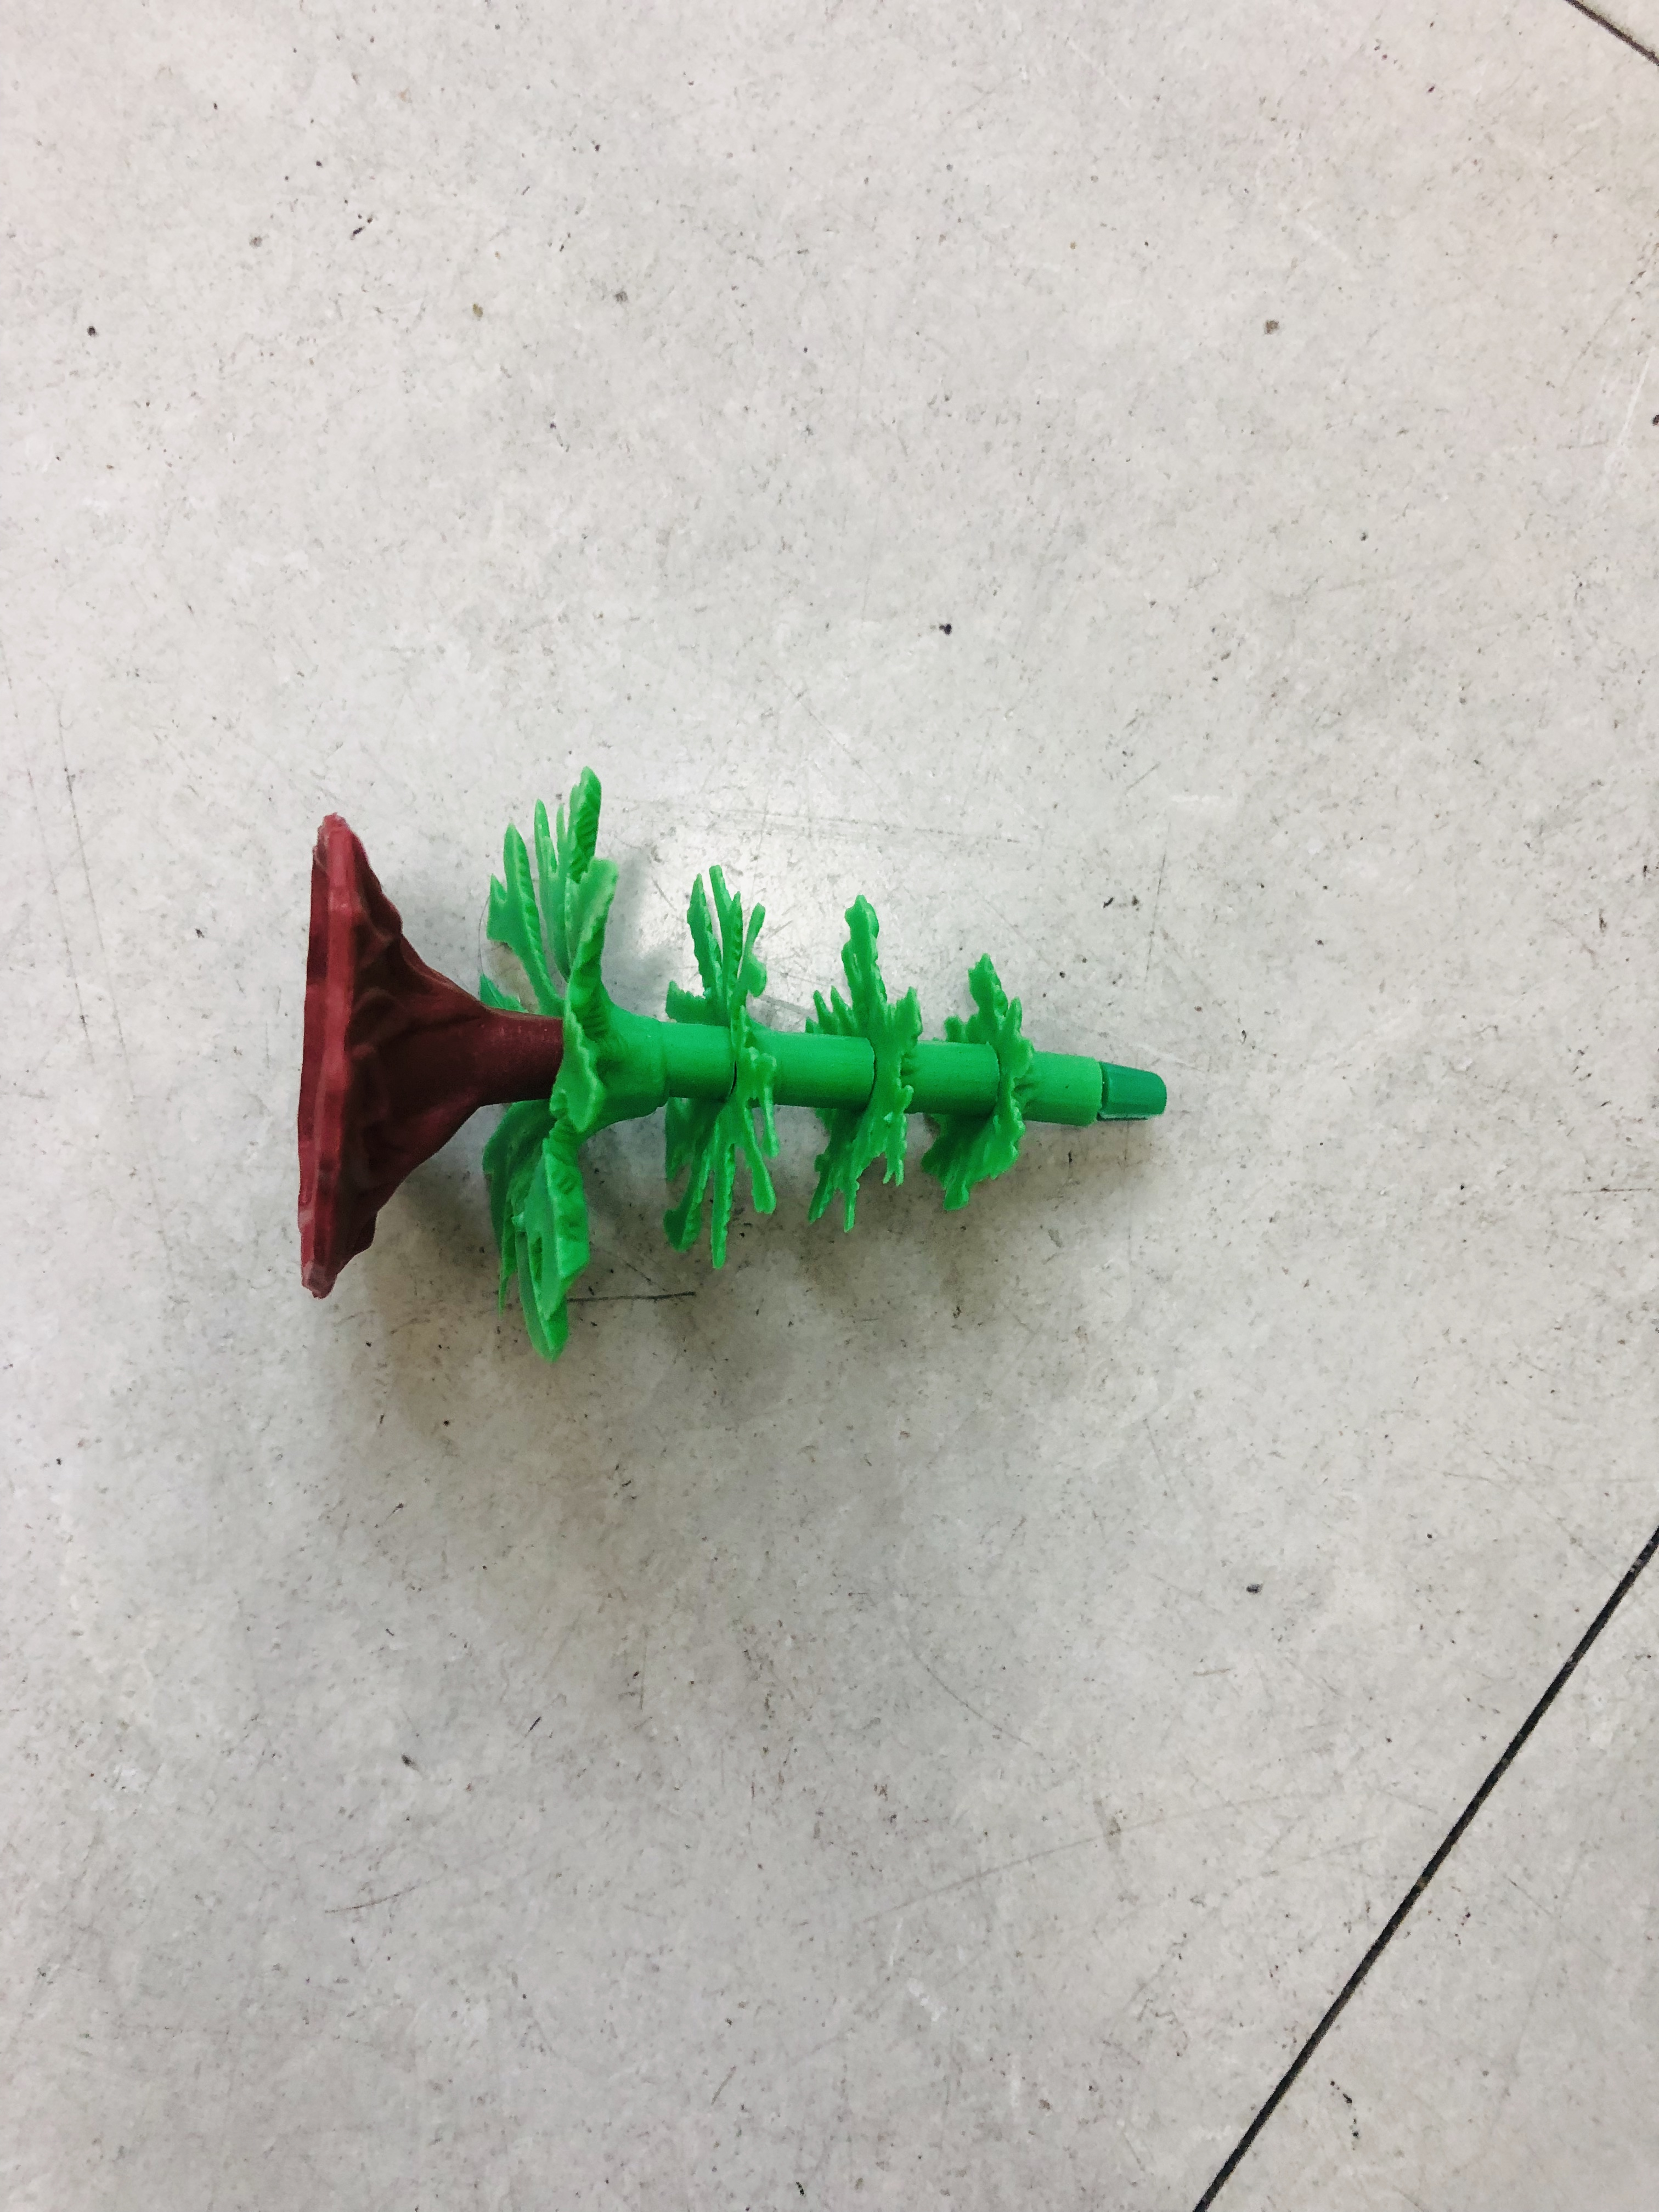tree: (199, 738, 1232, 1341)
